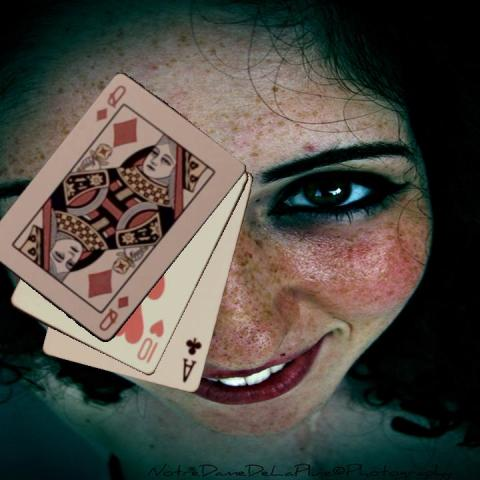10h: (133, 316, 166, 365)
Ac: (180, 335, 204, 384)
Qd: (93, 82, 128, 124), (95, 293, 131, 333)
